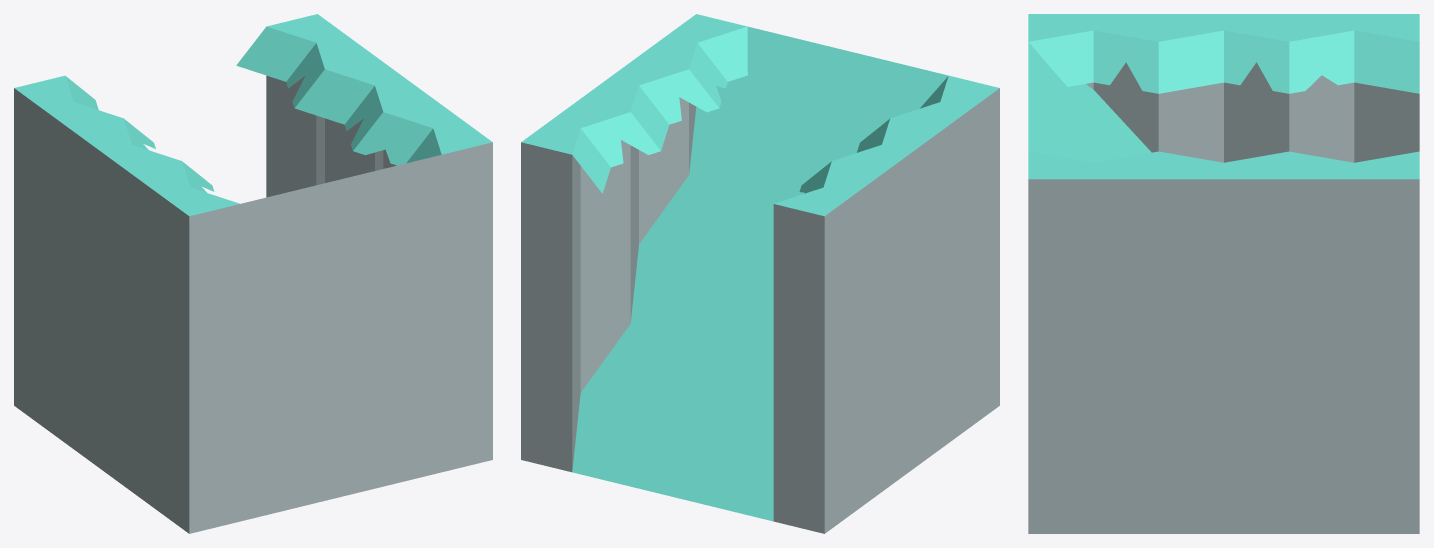
Rendered from cliff_blockSlopeWalls_stone.glb.
The picture shows the model from 3 angles, left to right: view 1: azimuth 30°, elevation 25°; view 2: azimuth 150°, elevation 25°; view 3: azimuth 270°, elevation 25°; orthographic projection. The views are drawn at different scales.
Visible parts, largest first — view 1: cliff_blockSlopeWalls_stone; view 2: cliff_blockSlopeWalls_stone; view 3: cliff_blockSlopeWalls_stone.
Boxes of the visible parts, bbox=[...] form: cliff_blockSlopeWalls_stone: bbox=[14, 14, 492, 533]; cliff_blockSlopeWalls_stone: bbox=[521, 14, 999, 533]; cliff_blockSlopeWalls_stone: bbox=[1028, 14, 1419, 533].
Size of the model in its own units: 1 by 1 by 1.
